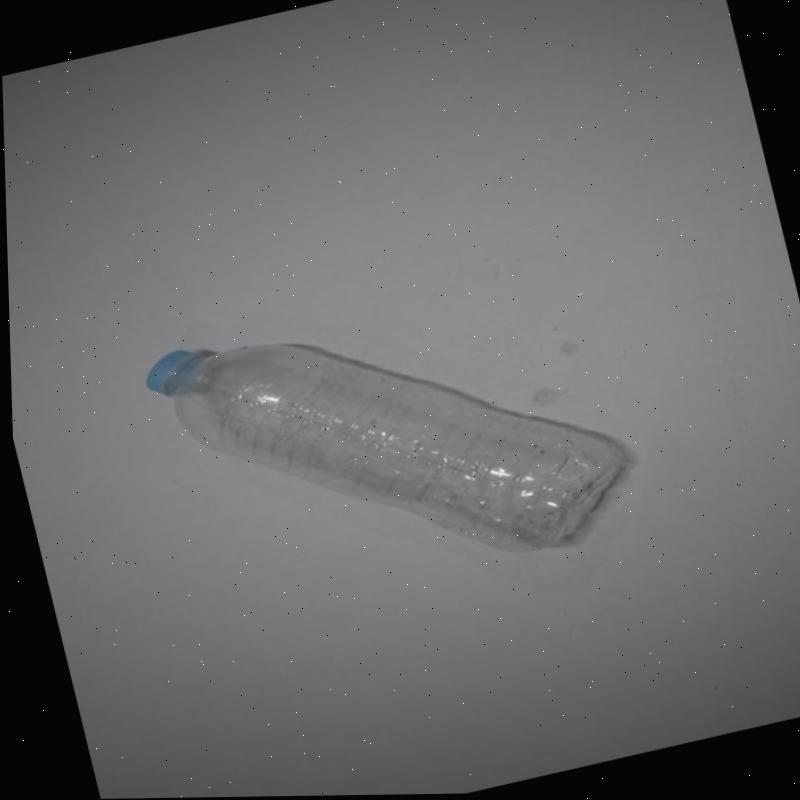botella: (135, 256, 645, 635)
